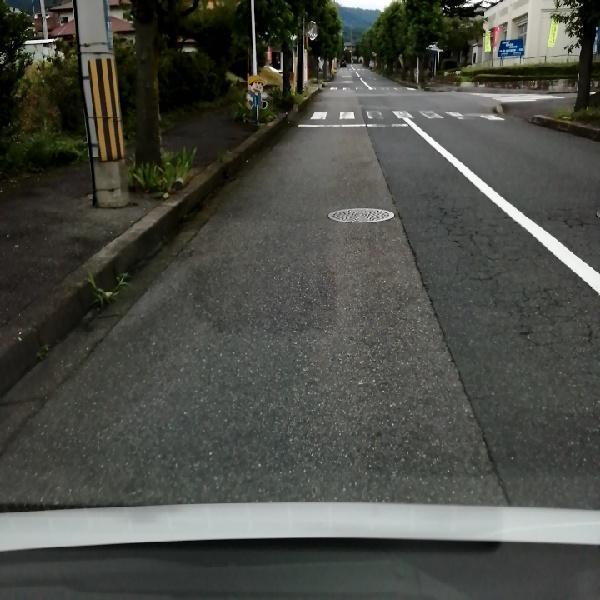D20: (420, 183, 594, 353)
D43: (307, 98, 420, 127)
D50: (325, 205, 395, 224)
